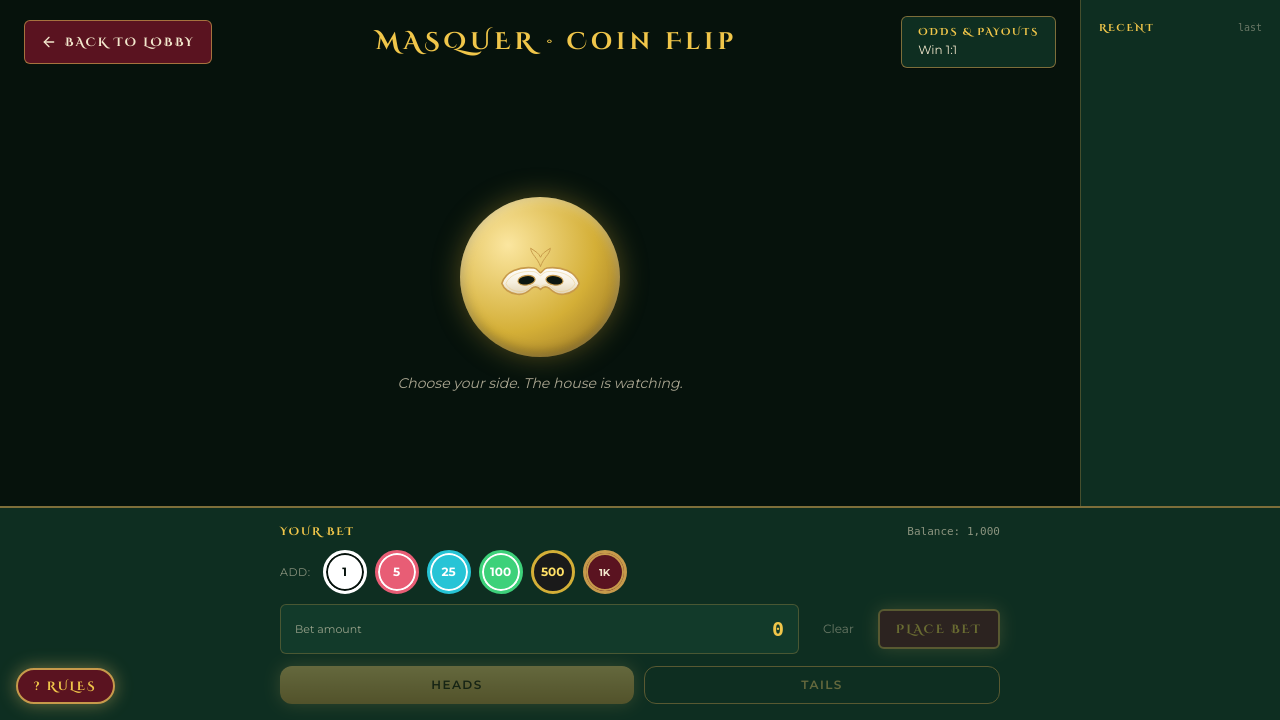
Test: CoinFlipPage › placing a bet enables Heads/Tails and plays chip.place
Click the button named "Add 25 chips to bet" at (449, 572), box [427,550,471,594]
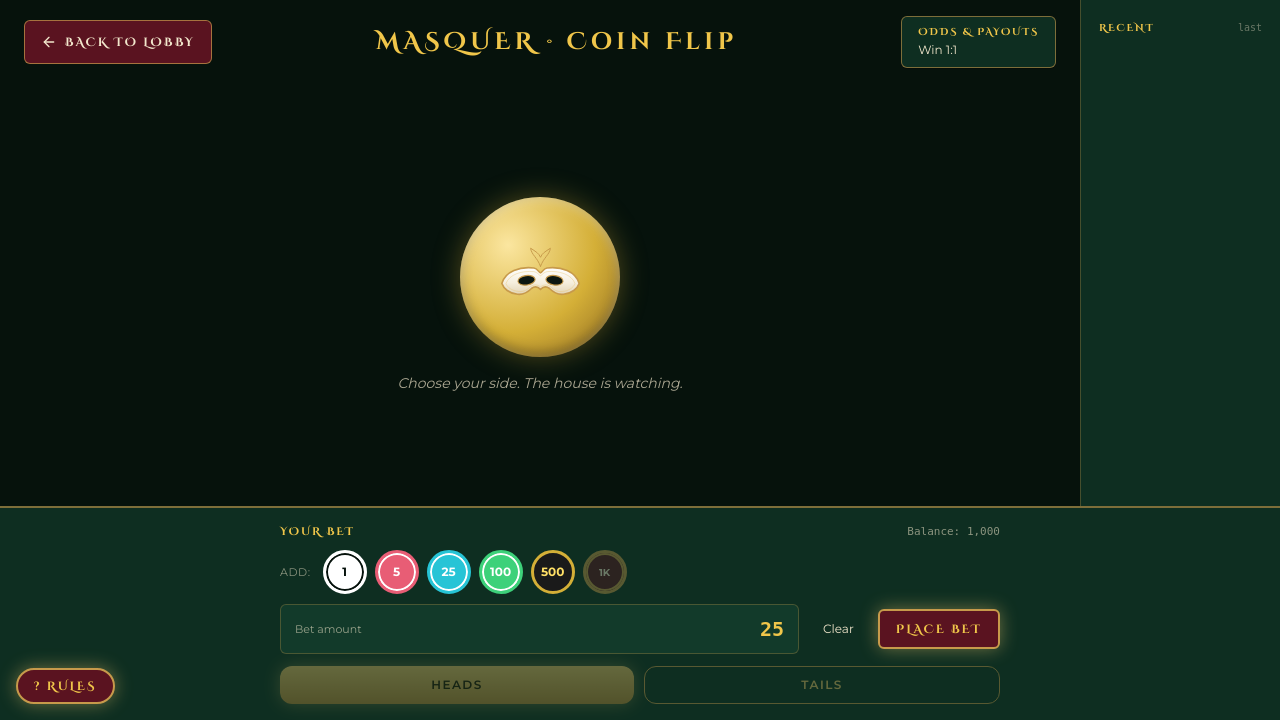
Click the button "PLACE BET" at (939, 629), box [878,609,1000,649]
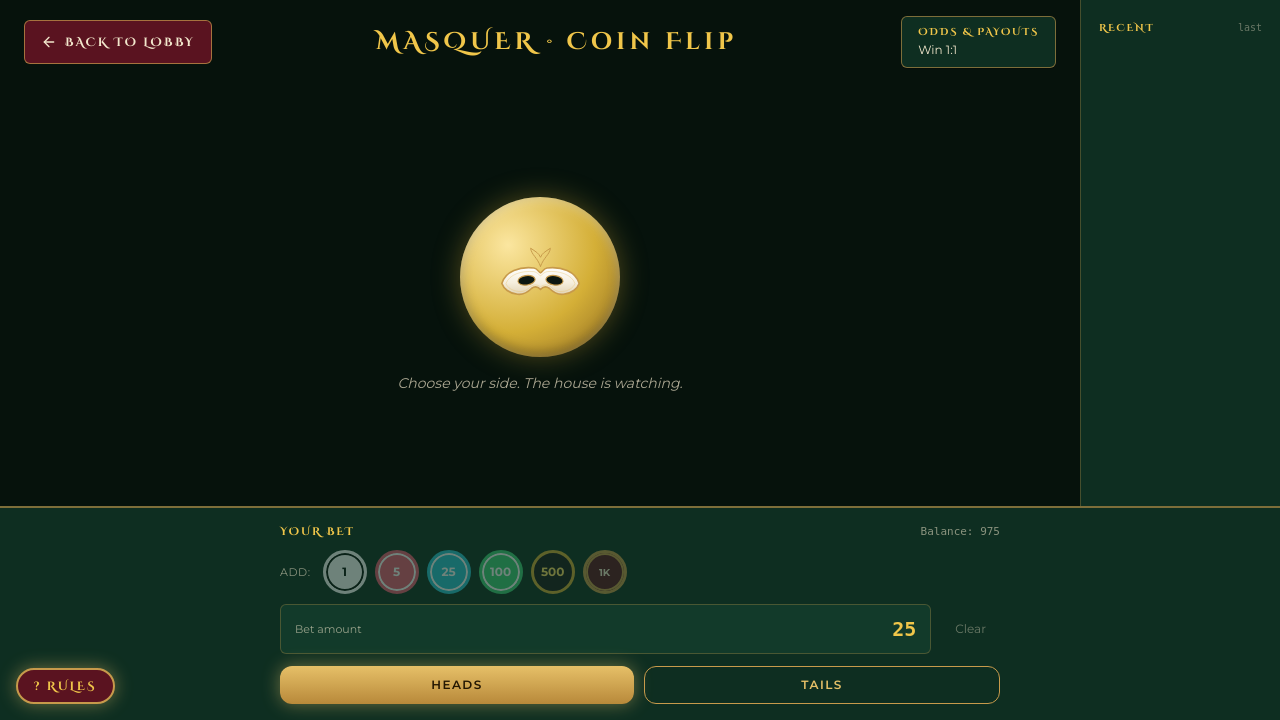
Expected: the button "Heads" is enabled, [280,666,634,704]
